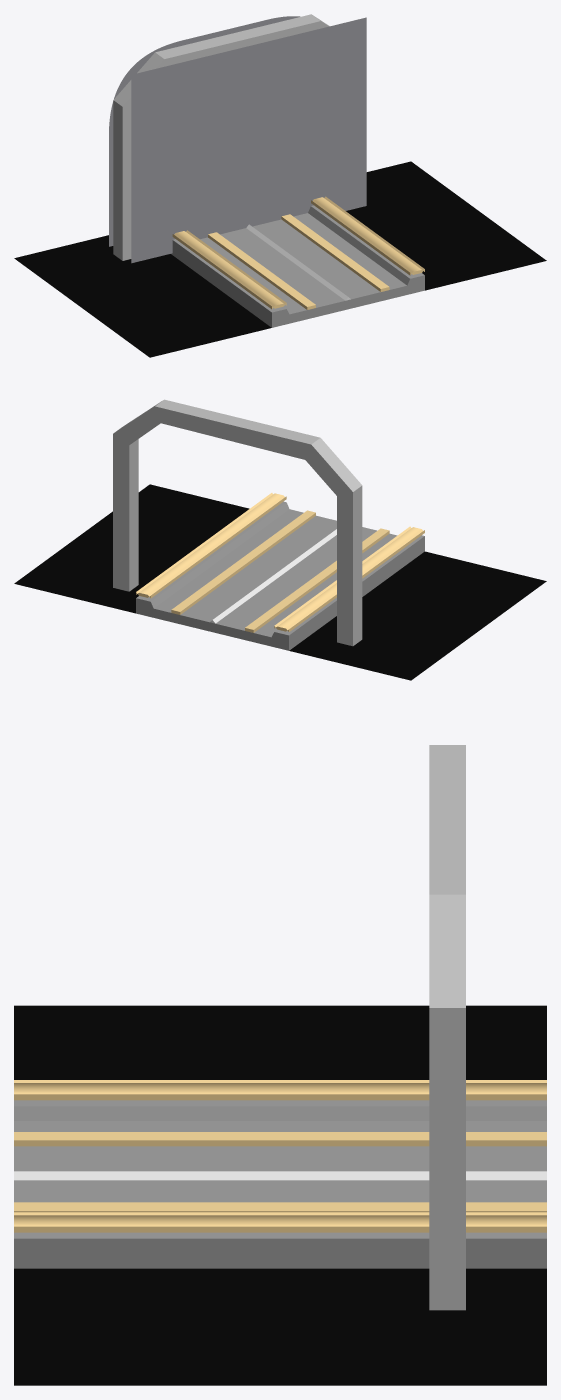
Rendered from station__message--media.glb.
3 views of the same model, one above another, from view 1: azimuth 30°, elevation 25°; view 2: azimuth 150°, elevation 25°; view 3: azimuth 270°, elevation 25° (orthographic). The views are drawn at different scales.
Parts seen in each view (by area): view 1: lottie_front, _basefloor, road, Boolean, road__top--left, road__top--right, lottie_back, road__rail--right, road__rail--left, road__rail--middle; view 2: _basefloor, road, Boolean, road__top--right, road__top--left, road__rail--right, road__rail--left, road__rail--middle; view 3: _basefloor, road, Boolean, road__top--right, road__top--left, road__rail--left, road__rail--right, road__rail--middle.
Boxes of the visible parts, box(x1,y1,x2,y2) form: lottie_front: box(131, 17, 366, 263); _basefloor: box(14, 161, 546, 357); road: box(171, 205, 424, 327); Boolean: box(113, 14, 329, 260); road__top--left: box(172, 230, 286, 309); road__top--right: box(311, 196, 424, 275); lottie_back: box(109, 16, 300, 246); road__rail--right: box(281, 214, 389, 291); road__rail--left: box(208, 232, 315, 309); road__rail--middle: box(246, 224, 350, 300); _basefloor: box(14, 484, 546, 680); road: box(136, 501, 424, 650); Boolean: box(113, 399, 362, 646); road__top--right: box(136, 493, 286, 598); road__top--left: box(274, 526, 424, 631); road__rail--right: box(171, 510, 315, 614); road__rail--left: box(245, 528, 389, 632); road__rail--middle: box(210, 529, 336, 623); _basefloor: box(14, 1005, 546, 1385); road: box(14, 1100, 546, 1268); Boolean: box(429, 745, 465, 1310); road__top--right: box(14, 1212, 546, 1232); road__top--left: box(14, 1080, 546, 1100); road__rail--left: box(14, 1132, 546, 1146); road__rail--right: box(14, 1202, 546, 1212); road__rail--middle: box(14, 1171, 546, 1180).
Size of the model in its own units: 10.8 by 4.98 by 6.4.
